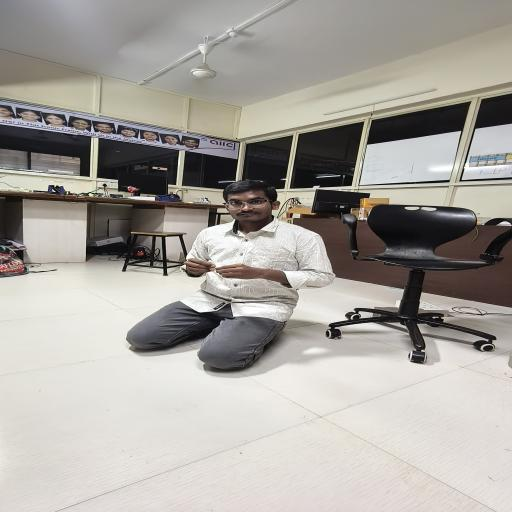survivor: (125, 180, 335, 372)
